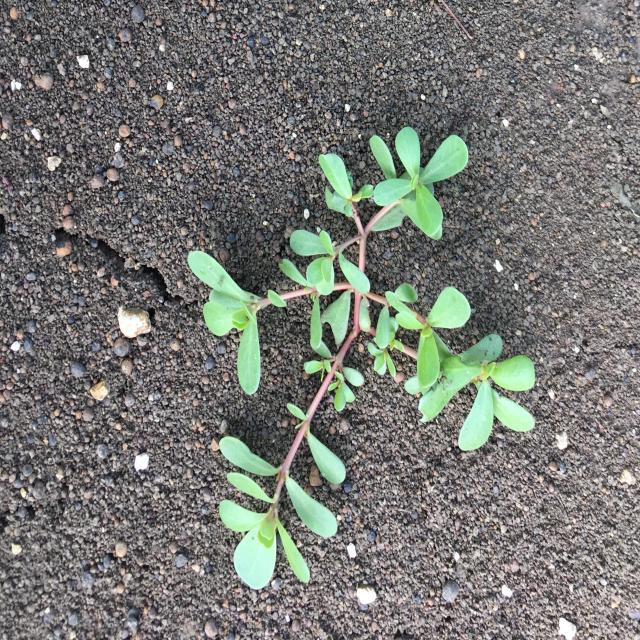Purslane: (188, 126, 536, 591)
